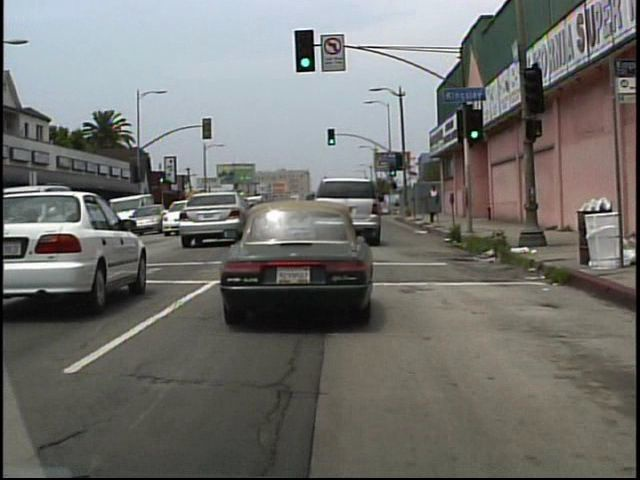person: (427, 183, 441, 215)
